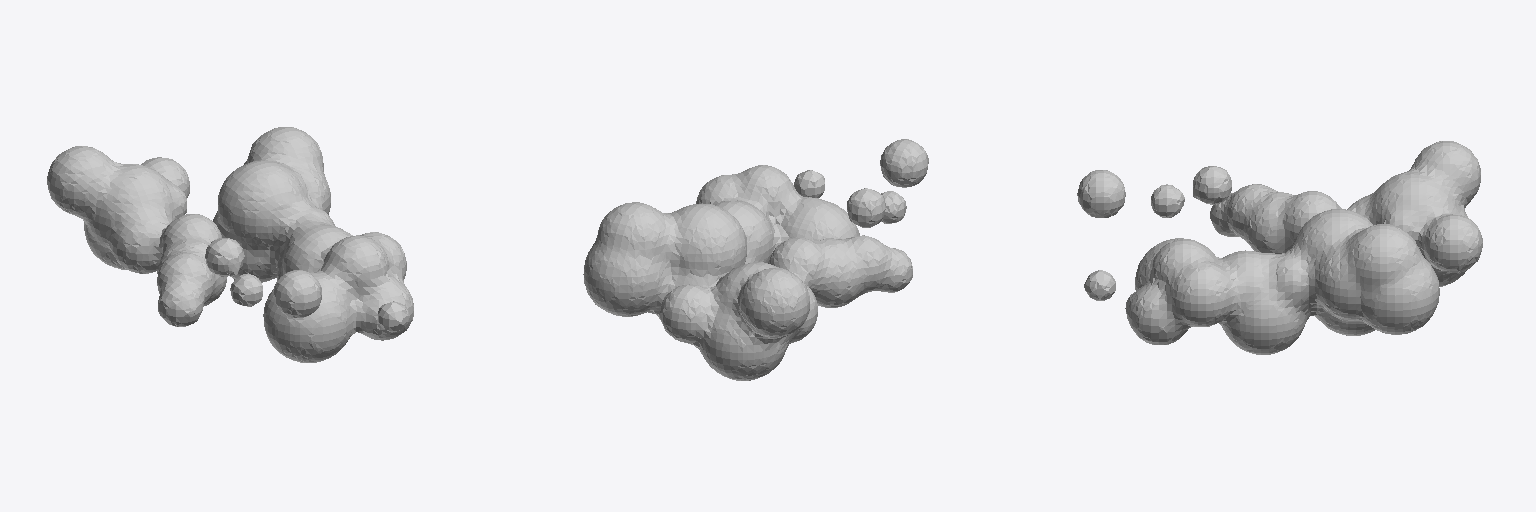
Rendered from cloud-b.obj.
3 renders of one model, left to right at view 1: azimuth 30°, elevation 25°; view 2: azimuth 150°, elevation 25°; view 3: azimuth 270°, elevation 25°, orthographic.
Parts seen in each view (by area): view 1: Cube.001; view 2: Cube.001; view 3: Cube.001.
Boxes of the visible parts, box(x1,y1,x2,y2) form: Cube.001: box(47, 127, 413, 362); Cube.001: box(583, 139, 928, 380); Cube.001: box(1077, 141, 1482, 354).
Bounding box in the file's own units: 5.3 × 2.86 × 7.73.